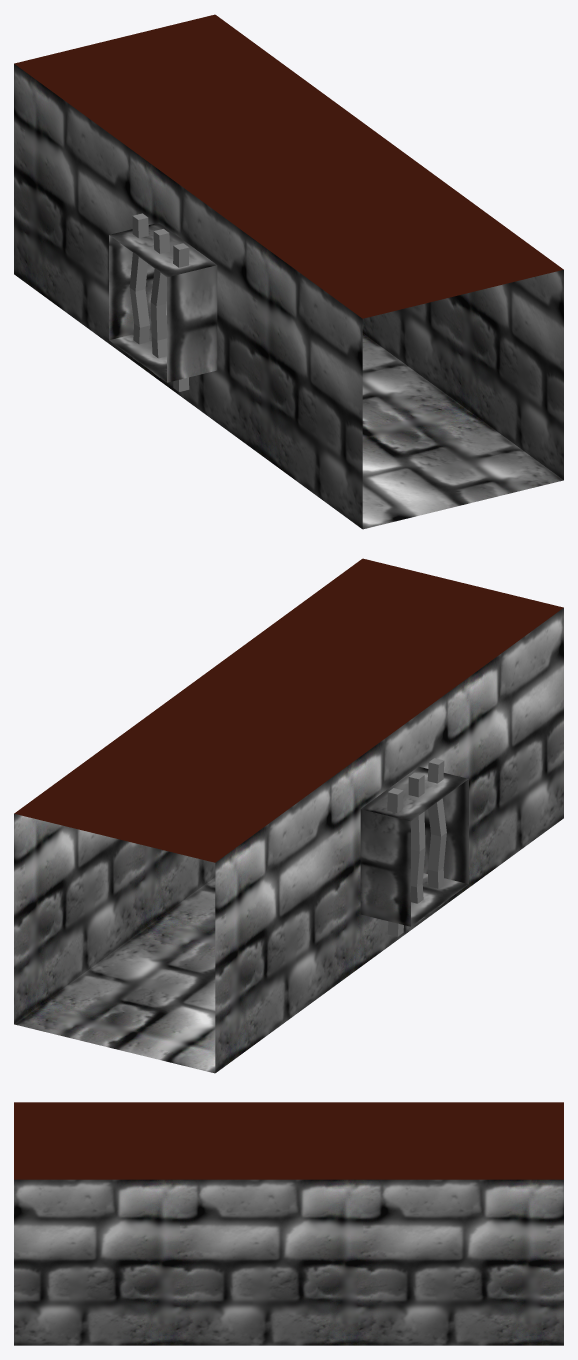
File: castle_WI1.fbx
3 renders of one model, top to bottom at view 1: azimuth 30°, elevation 25°; view 2: azimuth 150°, elevation 25°; view 3: azimuth 270°, elevation 25°, orthographic. The views are drawn at different scales.
Parts seen in each view (by area): view 1: Plane.100; view 2: Plane.100; view 3: Plane.100.
Part boxes in pixels (x1,y1,x2,y2): Plane.100: (14,14,563,529); Plane.100: (14,558,563,1073); Plane.100: (14,1102,563,1345).
Size of the model in its own units: 500 by 400 by 1200.
3 materials, 1 textured.
